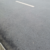zebra: (1, 1, 45, 48)
